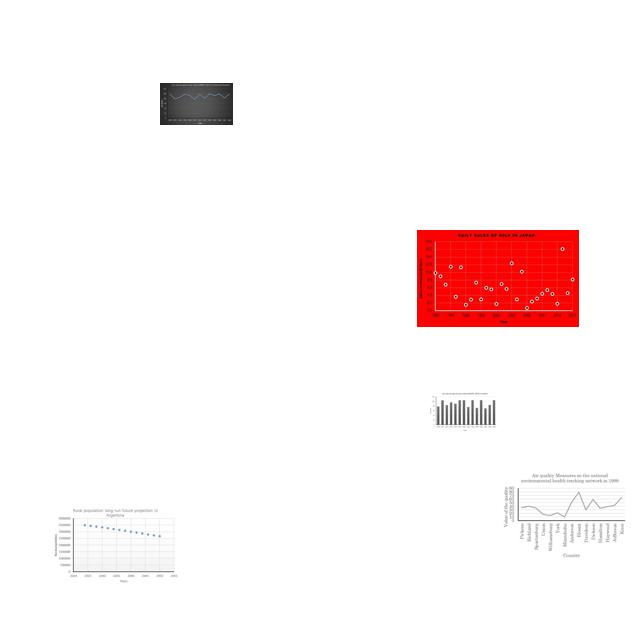Graph: (417, 230, 579, 327), (500, 471, 628, 560), (53, 507, 179, 583), (160, 83, 233, 125), (427, 391, 500, 433)
